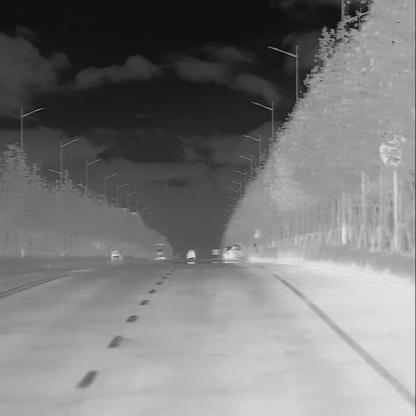car: (229, 244, 248, 261), (222, 245, 234, 264), (185, 248, 197, 264), (110, 249, 122, 260)
truck: (154, 240, 174, 261)
